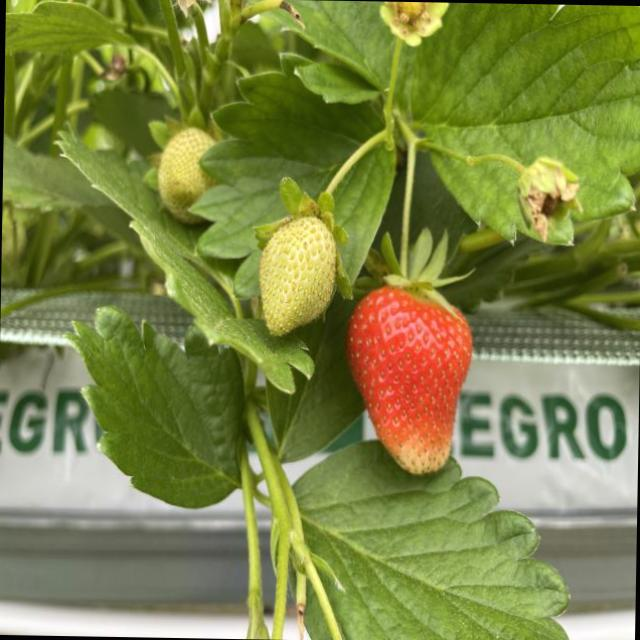stem: (382, 115, 464, 302), (253, 149, 357, 284), (148, 78, 217, 145)
strawberryNR: (259, 215, 335, 333)
strawberryR: (347, 285, 471, 474)
